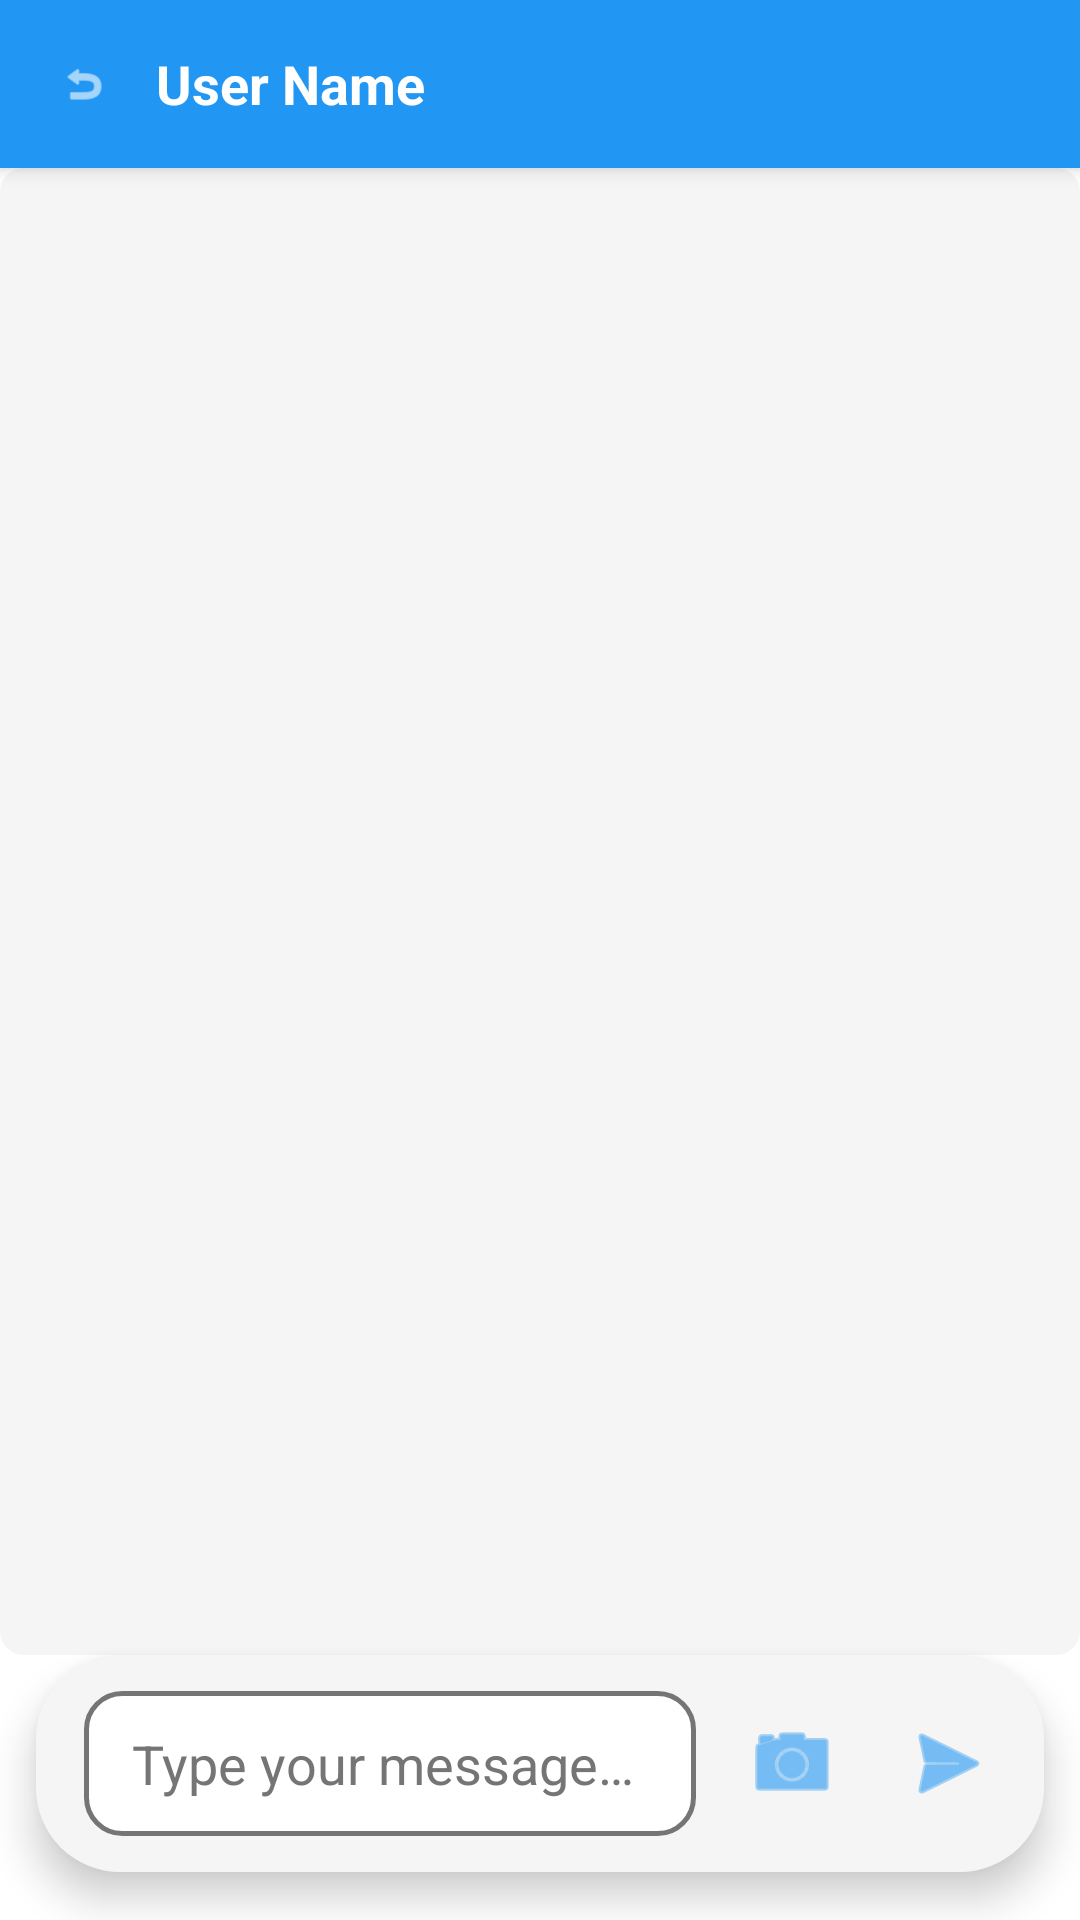

Icon bounding boxes for this 1080*1920 phone screenshot, format (x1, y1, x2, y2):
Back: (67, 69, 102, 100)
Open Camera: (755, 1732, 829, 1791)
Send message: (918, 1733, 980, 1794)
